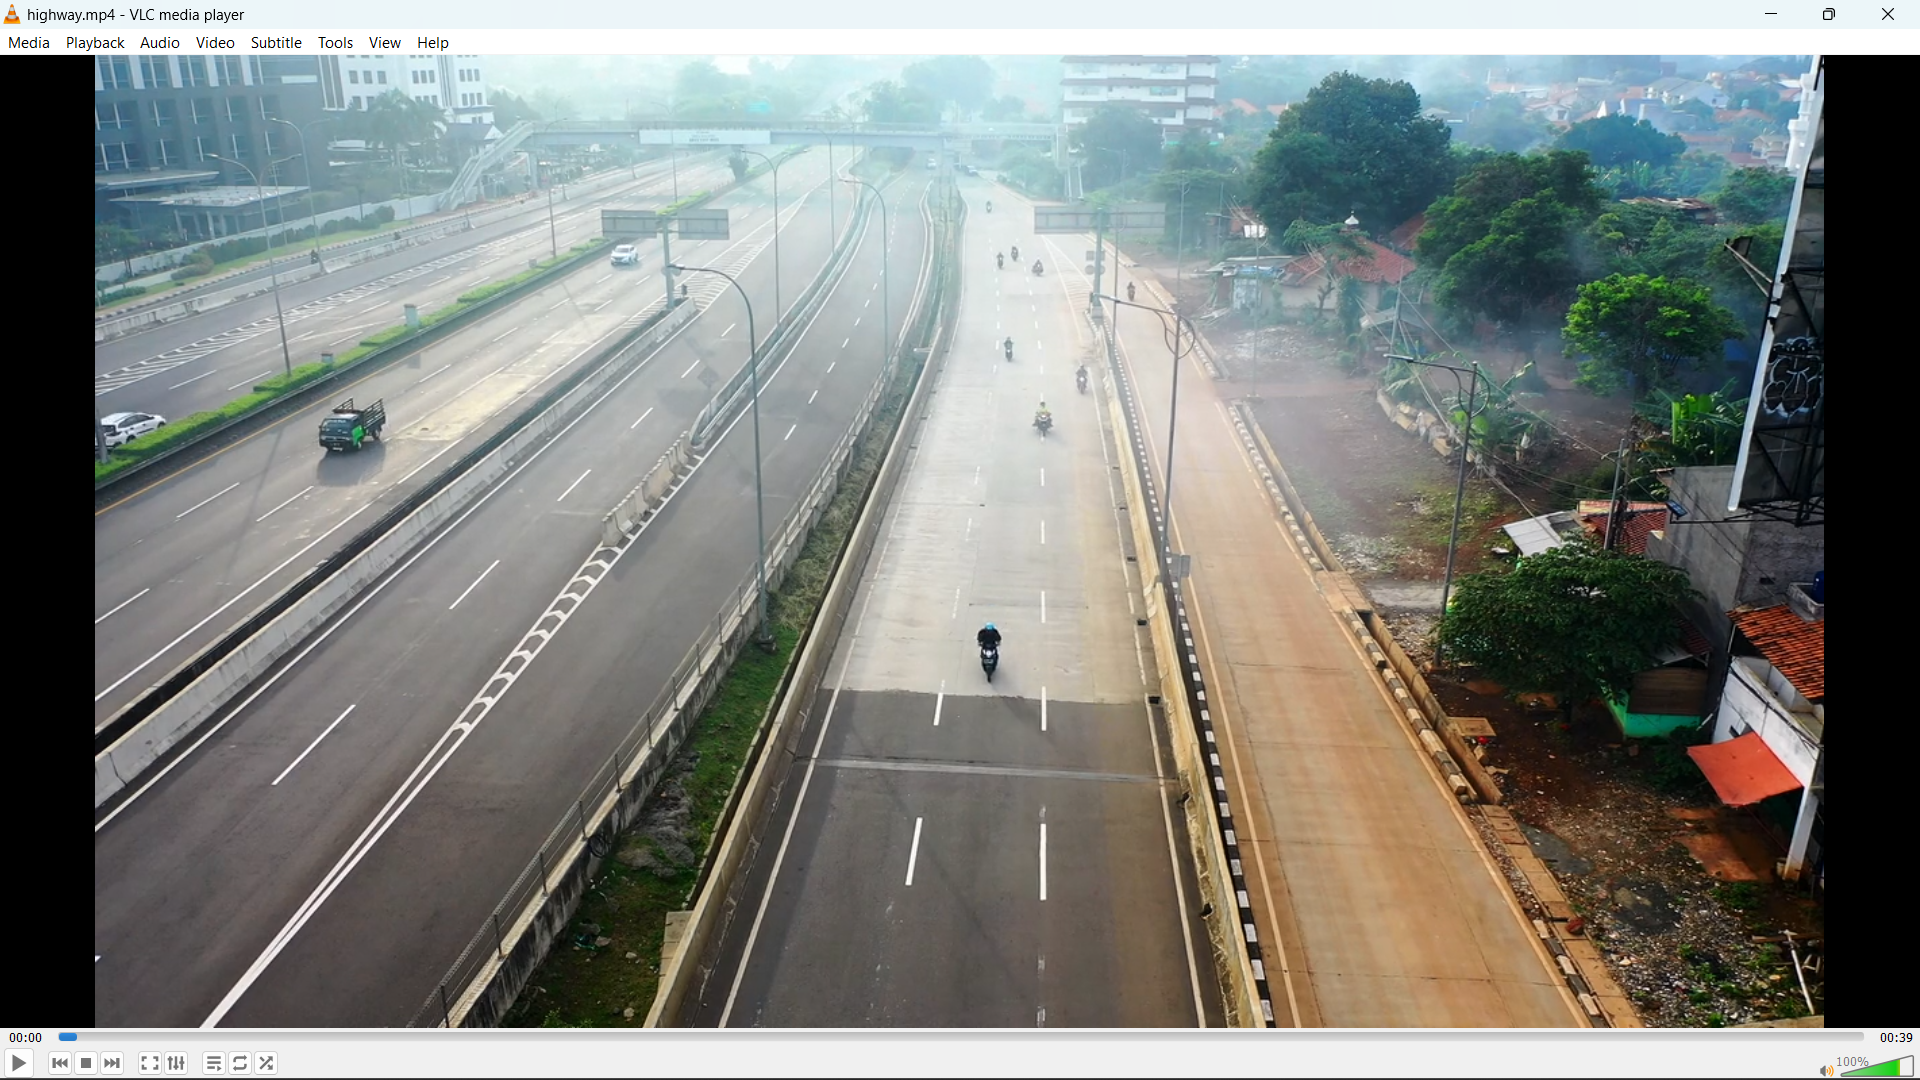MotorCycle: (976, 622, 1004, 684), (1027, 400, 1056, 440)
